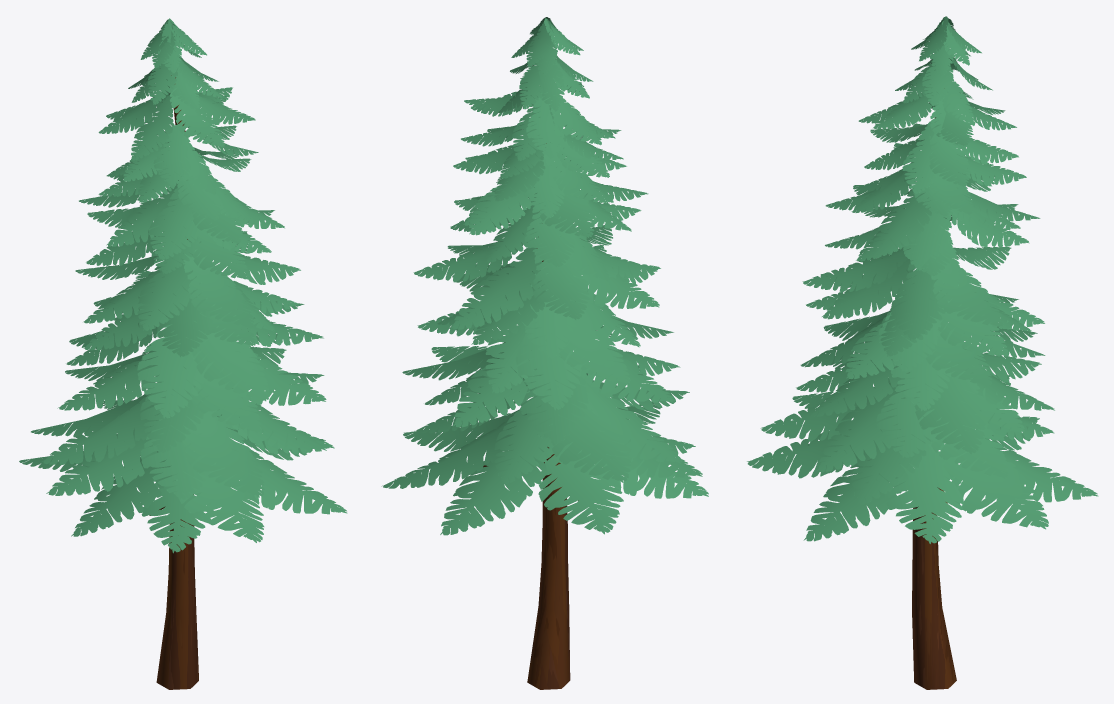
The model's file is STPine2.glb.
3 views of the same model, side by side, from view 1: azimuth 30°, elevation 25°; view 2: azimuth 150°, elevation 25°; view 3: azimuth 270°, elevation 25° (orthographic).
Parts seen in each view (by area): view 1: PineTree2; view 2: PineTree2; view 3: PineTree2.
Boxes of the visible parts, box(x1,y1,x2,y2) form: PineTree2: box(19, 18, 347, 689); PineTree2: box(381, 17, 708, 689); PineTree2: box(747, 16, 1098, 689).
Size of the model in its own units: 5.82 by 12.72 by 6.15.
Materials: 2 (2 with a texture image).
